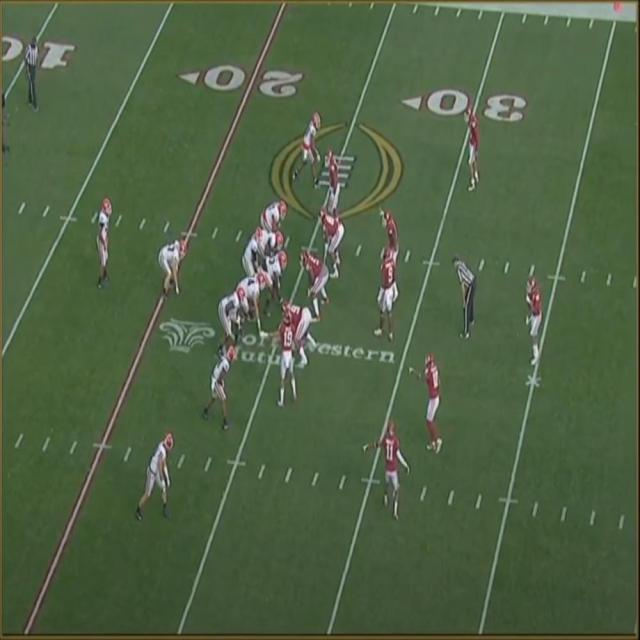center: (268, 249, 288, 299)
db: (423, 352, 439, 444), (384, 424, 399, 514), (528, 277, 543, 364), (465, 106, 479, 187)
lb: (381, 250, 395, 339), (383, 210, 399, 252)
qb: (240, 224, 262, 278)
skill: (138, 435, 172, 513), (204, 346, 234, 424), (297, 110, 323, 188), (159, 239, 187, 290), (98, 198, 112, 283), (280, 309, 293, 392), (325, 150, 341, 212)
